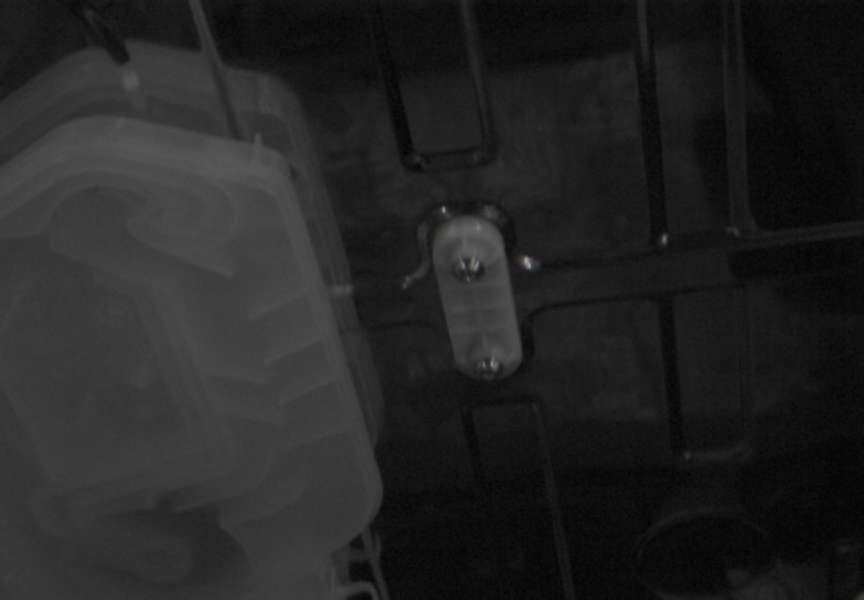screw: (452, 256, 485, 283), (474, 356, 504, 381)
